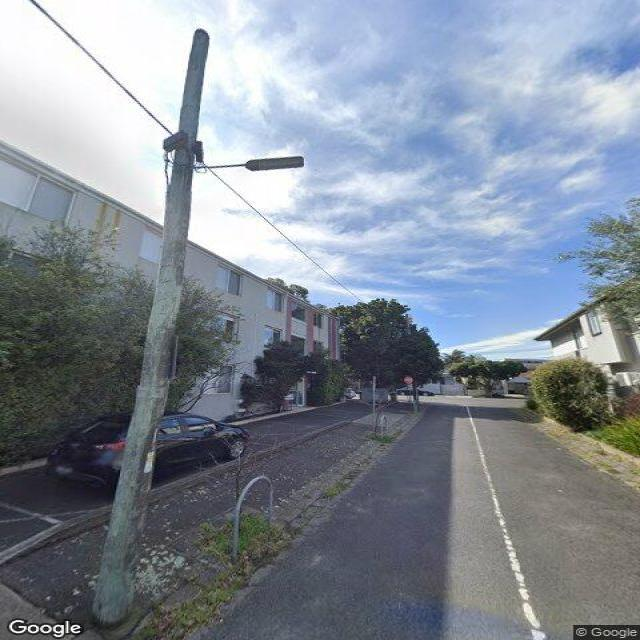streetlight: (193, 155, 305, 172)
timber-pole: (91, 26, 211, 624)
